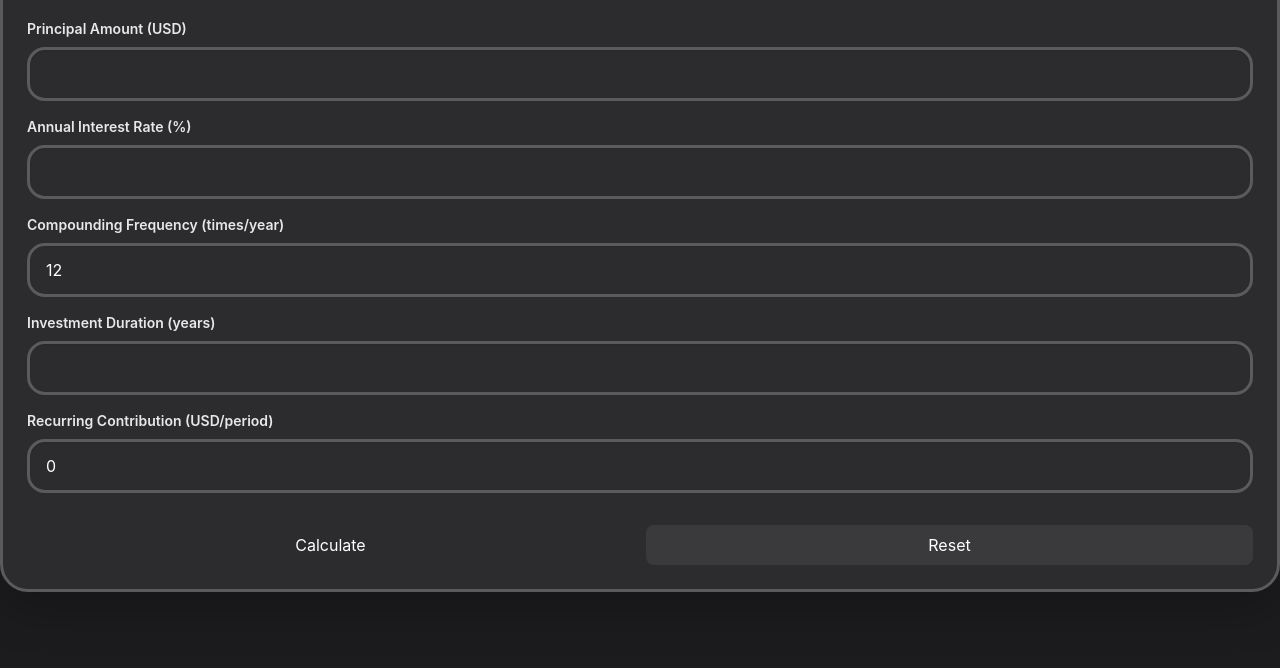
Test: CompoundInterestCalculator › accepts user input and displays results
Type "10000" into the field labelled "Principal Amount (USD)" at {"x": 640, "y": 74}, box top-left (27, 47), bottom-right (1253, 101)
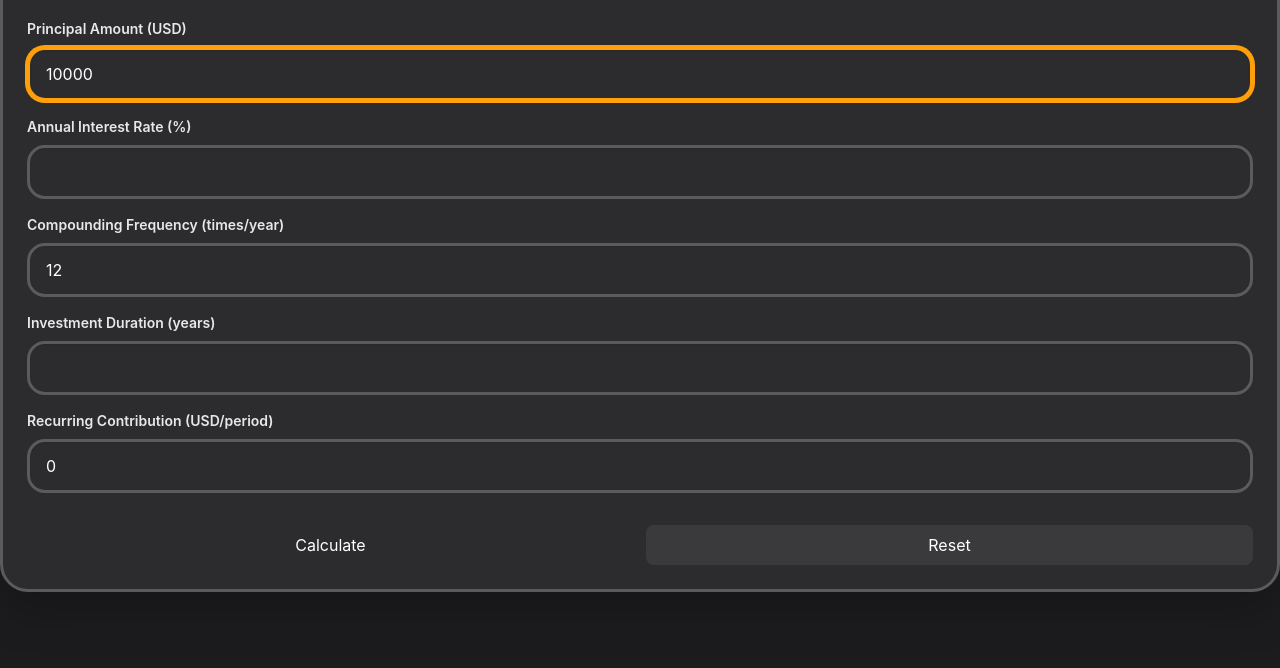
Type "5" into the field labelled "Annual Interest Rate (%)" at {"x": 640, "y": 172}, box top-left (27, 145), bottom-right (1253, 199)
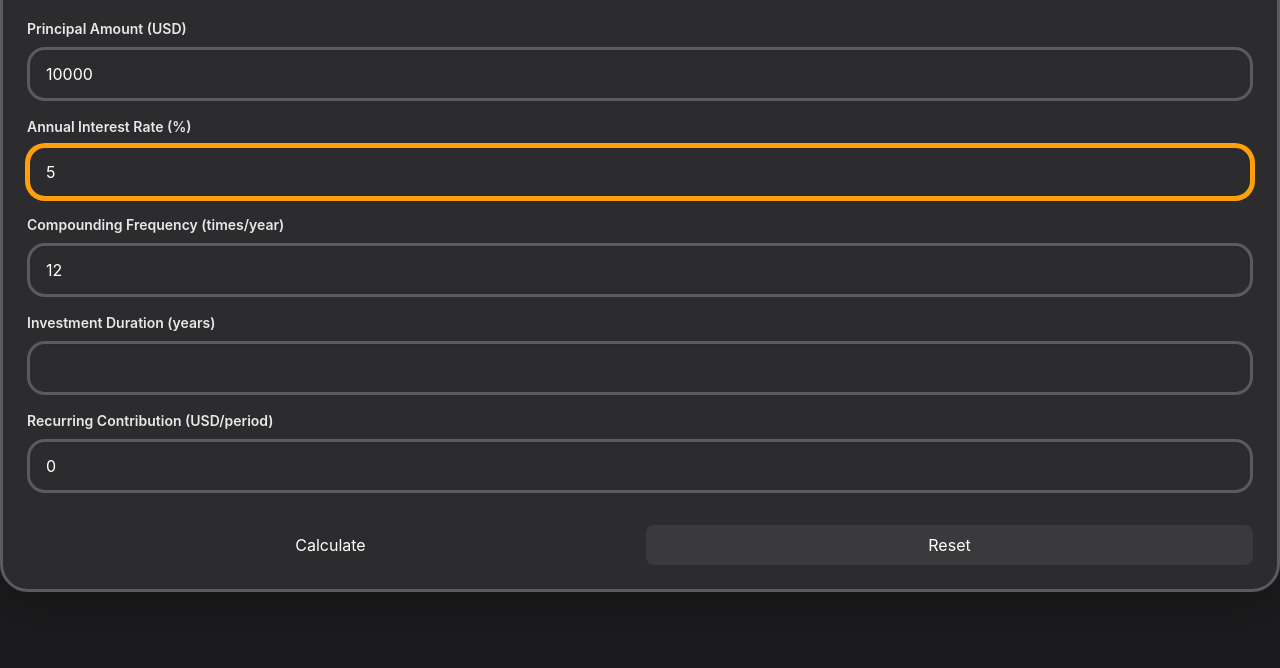
Type "10" into the field labelled "Investment Duration (years)" at {"x": 640, "y": 368}, box top-left (27, 341), bottom-right (1253, 395)
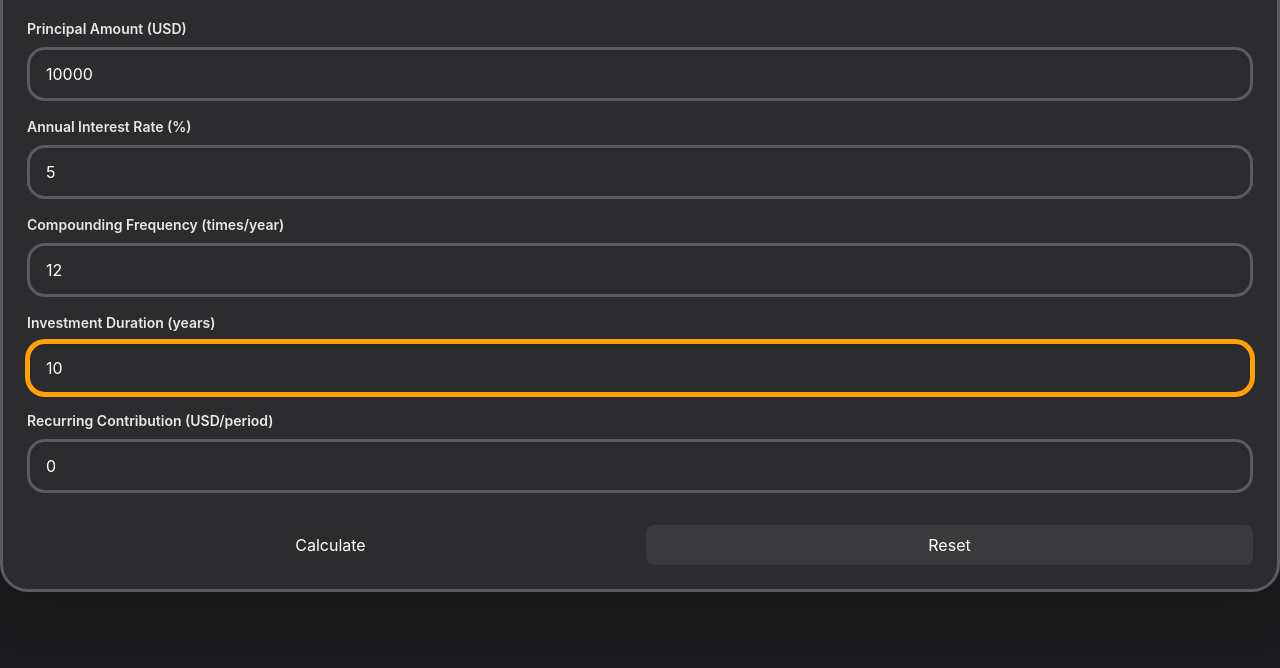
Click the button "Calculate" at {"x": 330, "y": 545}, box top-left (27, 525), bottom-right (634, 565)
(page scrolled)
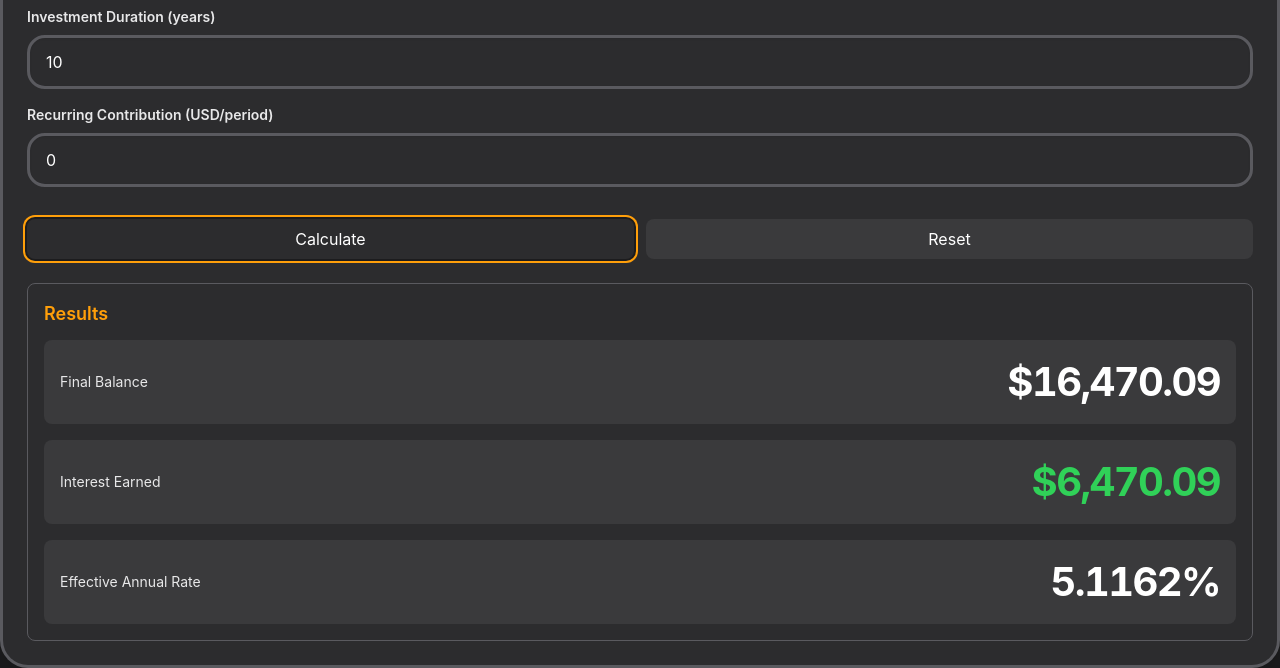
Check: the heading "Results" is shown, box top-left (44, 303), bottom-right (108, 324)
Check: the text "Final Balance" is shown, box top-left (60, 372), bottom-right (148, 392)
Check: the text "Interest Earned" is shown, box top-left (60, 472), bottom-right (160, 492)
